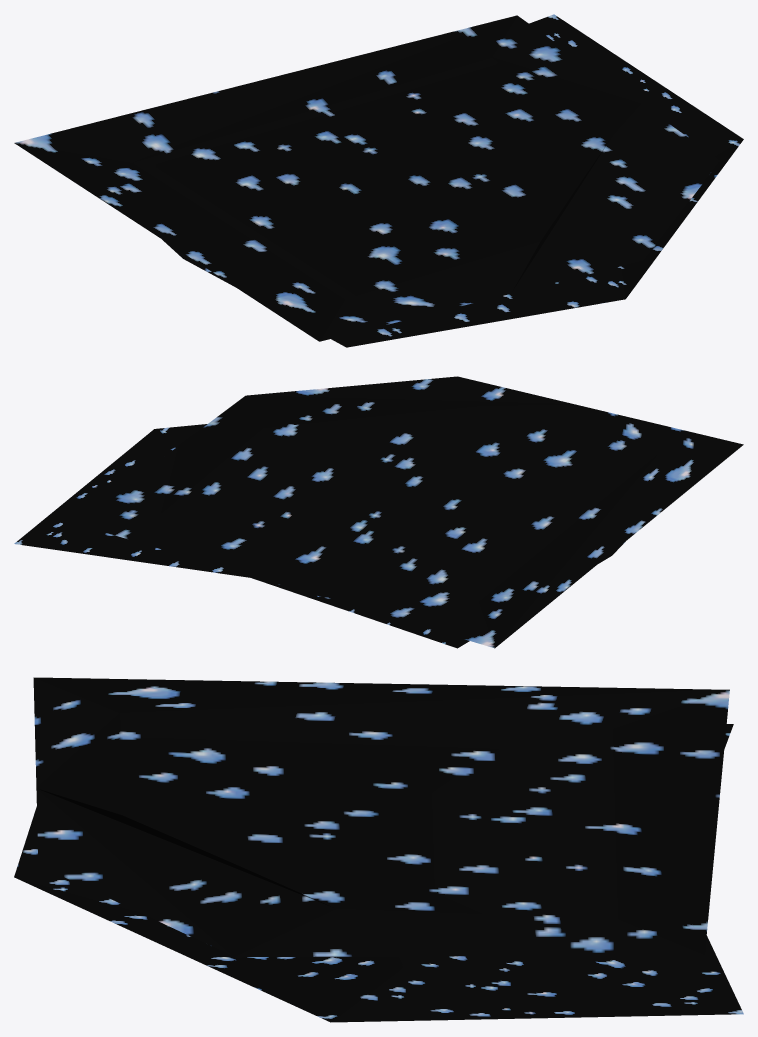
3 views of the same model, one above another, from view 1: azimuth 30°, elevation 25°; view 2: azimuth 150°, elevation 25°; view 3: azimuth 270°, elevation 25° (orthographic). The views are drawn at different scales.
Visible parts, largest first — view 1: 26802; view 2: 26802; view 3: 26802.
Part boxes in pixels (x1,y1,x2,y2): 26802: (14,14,743,347); 26802: (14,376,743,648); 26802: (14,677,743,1022).
Size of the model in its own units: 1.72 by 0.1805 by 1.65.
1 material, 1 textured.
